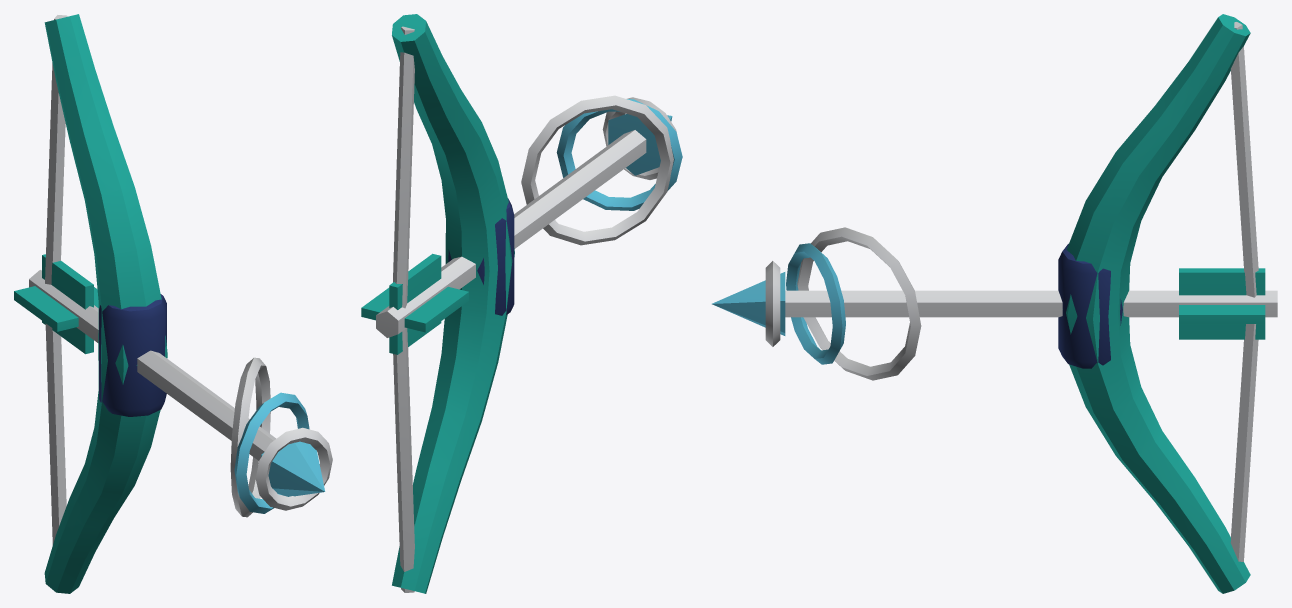
Rendered from w_y_tornado.glb.
The picture shows the model from 3 angles, left to right: view 1: azimuth 30°, elevation 25°; view 2: azimuth 150°, elevation 25°; view 3: azimuth 270°, elevation 25°; orthographic projection.
Parts seen in each view (by area): view 1: body; view 2: body; view 3: body.
Part boxes in pixels (left/top/right/bottom): body: left=14, top=14, right=332, bottom=593; body: left=361, top=14, right=682, bottom=593; body: left=712, top=14, right=1277, bottom=593.
Size of the model in its own units: 0.1479 by 0.8228 by 0.736.
